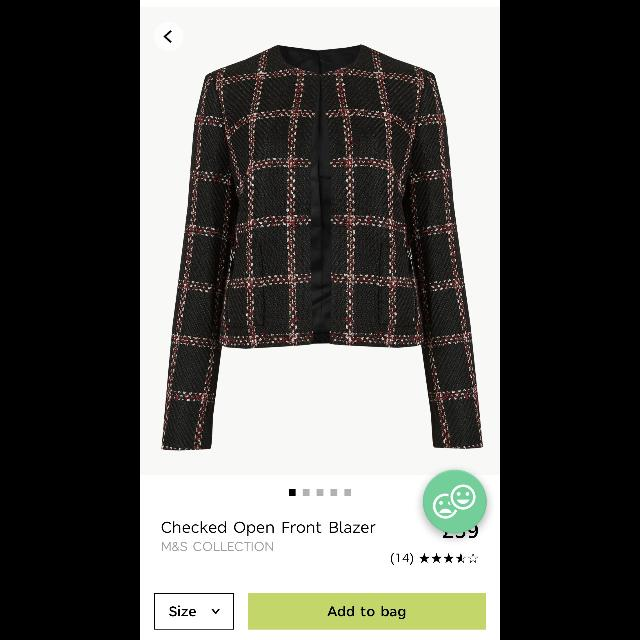icon: (154, 22, 184, 52), (419, 553, 479, 563), (212, 608, 220, 614)
image: (161, 43, 483, 450), (423, 469, 487, 533)
pageindicator: (288, 489, 352, 496)
text: (162, 522, 376, 536), (162, 542, 274, 552), (170, 606, 197, 616), (391, 553, 413, 565)
textbutton: (248, 593, 486, 629), (154, 593, 234, 629)
